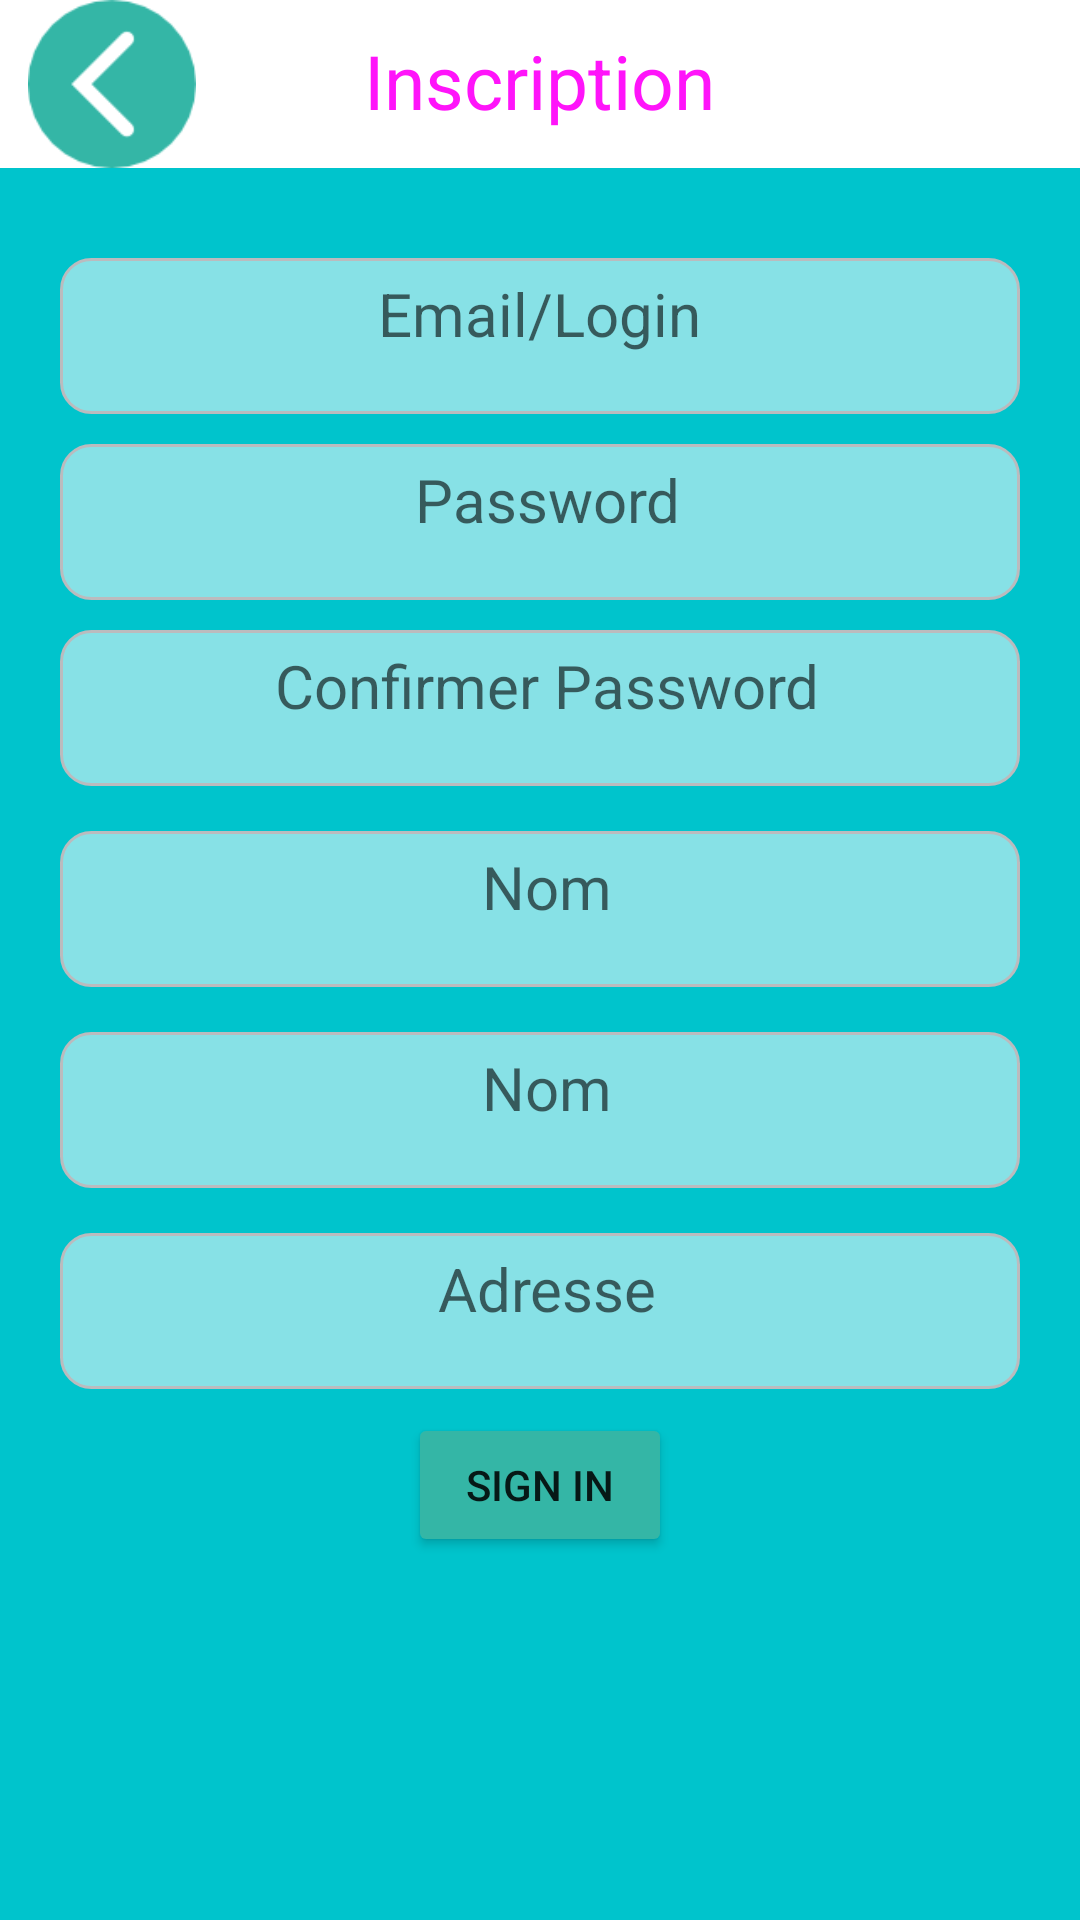

Icon bounding boxes for this 1080w x 1920h phone screenshot, format (x1=x1, y1=y1, x2=x2, y2=y2):
arrow: (x1=28, y1=0, x2=196, y2=168)
